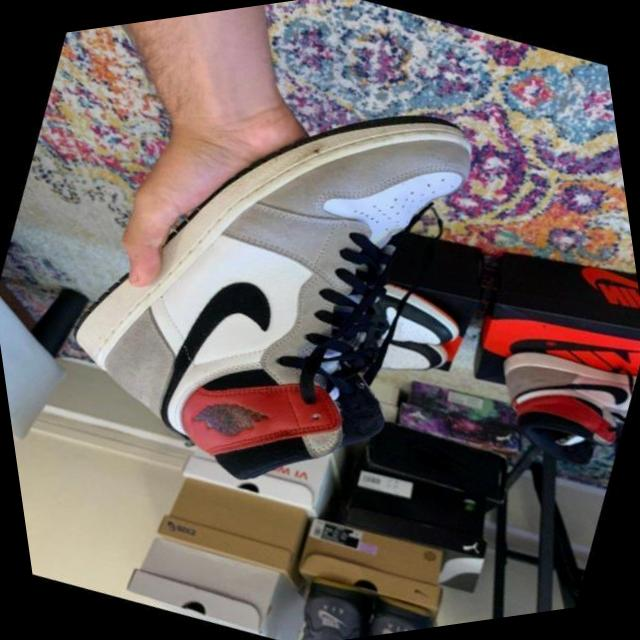nike_original_jordan: (0, 0, 538, 566)
